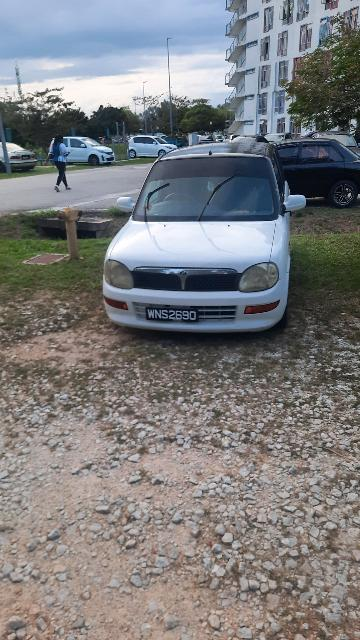License_Plate: (142, 307, 201, 324)
car: (102, 135, 310, 341)
